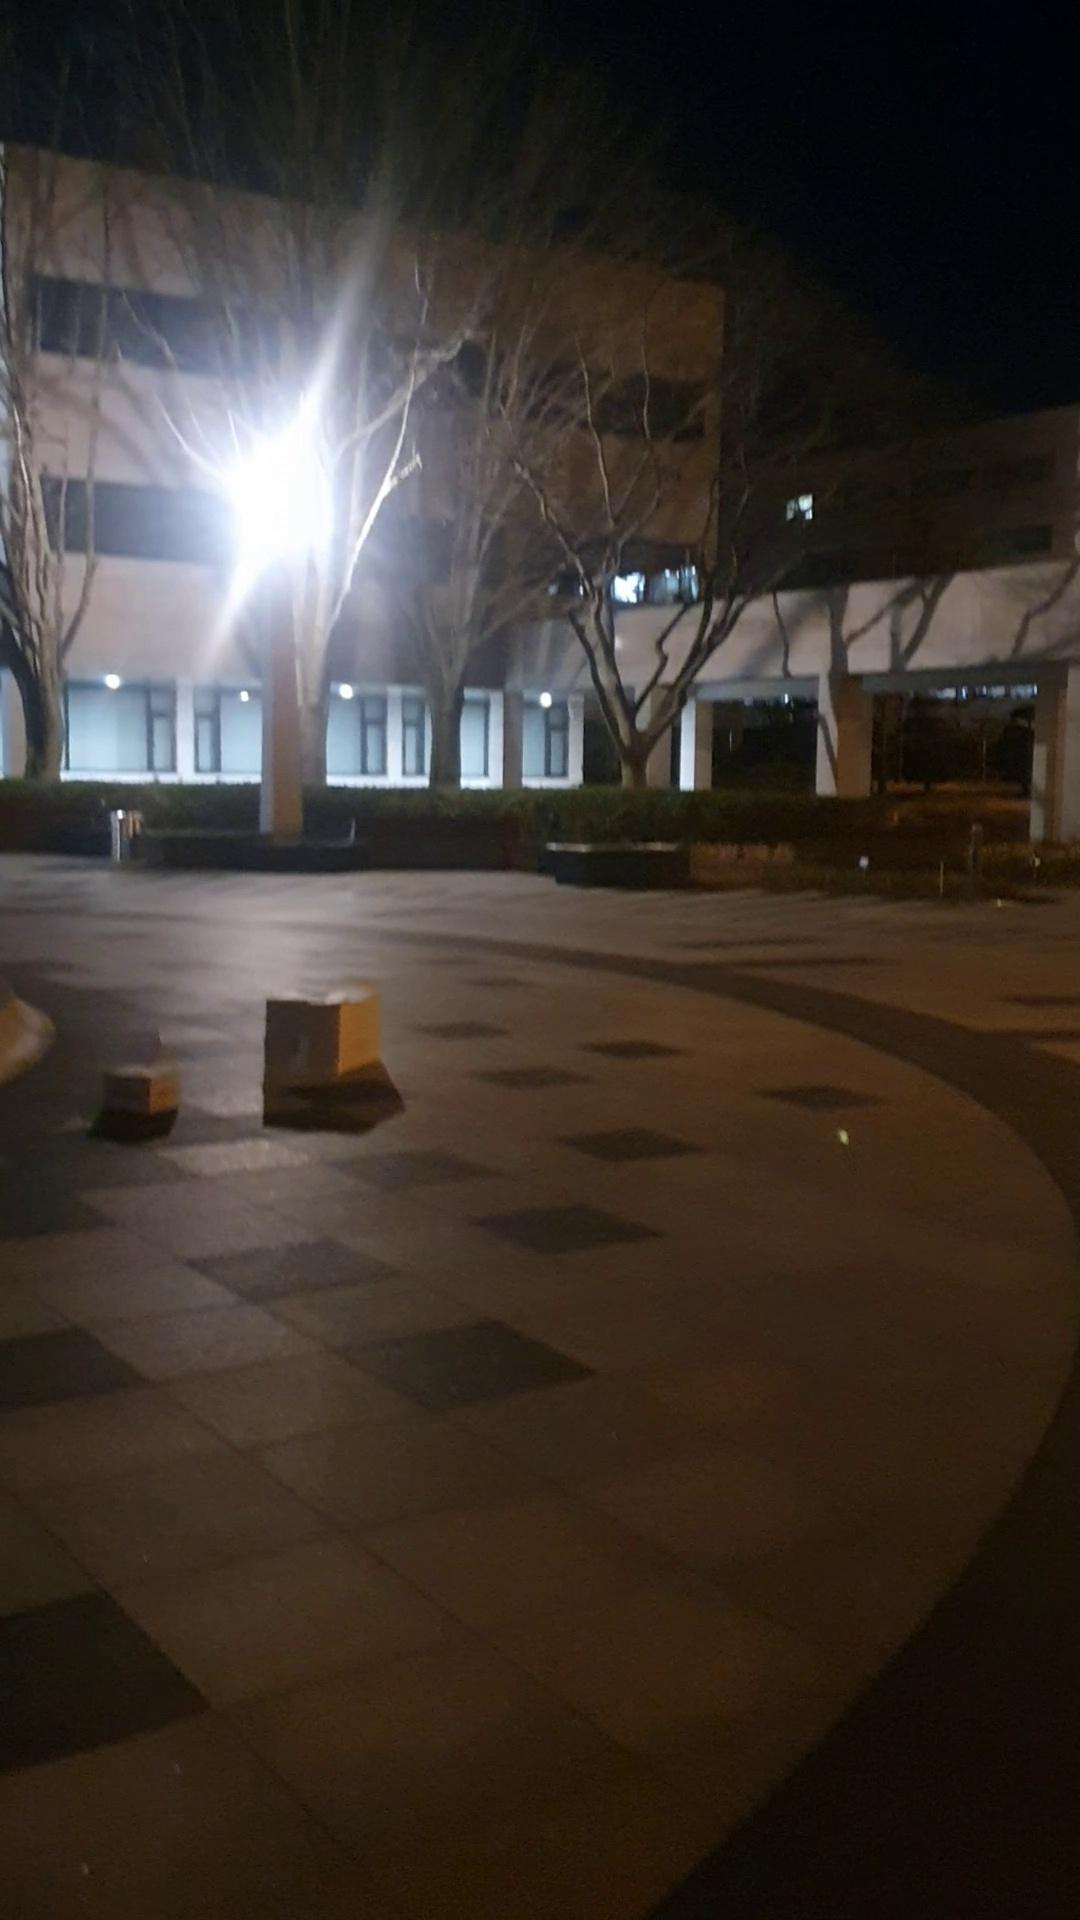Box: (253, 975, 386, 1106), (102, 1048, 170, 1120)
